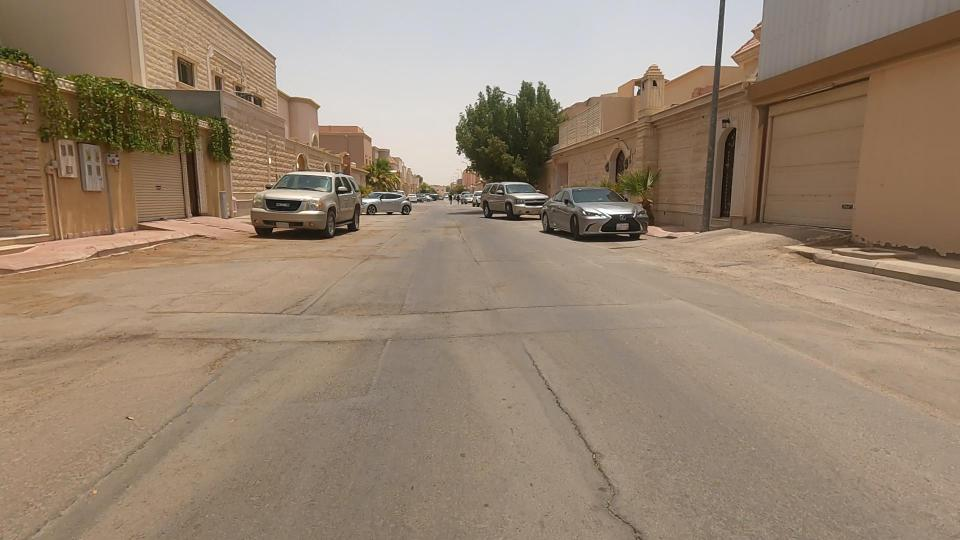POTHOLES: (467, 271, 699, 540), (190, 239, 399, 388), (127, 288, 304, 441), (307, 217, 426, 300)
